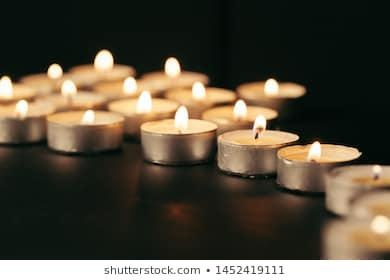fire: (174, 103, 190, 131), (304, 139, 322, 163)
